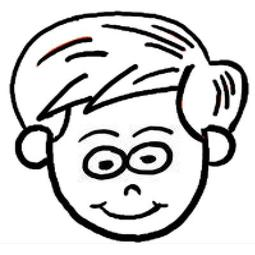ear: (4, 124, 52, 171), (202, 125, 243, 173)
eyebrow: (126, 138, 177, 175), (80, 143, 128, 180), (72, 125, 124, 143), (129, 122, 176, 138)
mouth: (87, 200, 170, 221)
nose: (116, 182, 149, 197)
